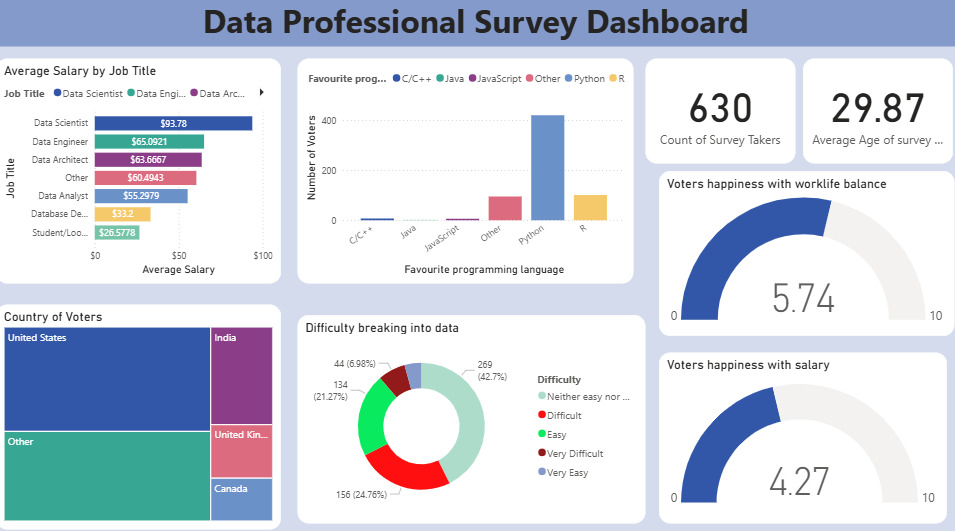

What the dashboard file says about the page in this screenshot:
{"tool":"powerbi","page":{"name":"Page 1","canvas":[1280,720],"ordinal":0},"visuals":[{"type":"textbox","box":[0,0,1279.4,69.9],"z":0},{"type":"card","fields":{"Values":["CountNonNull(Data Professional Survey.Unique ID)"]},"box":[866,86,200,140],"z":1000},{"type":"card","fields":{"Values":["Avg(Data Professional Survey.Q10 - Current Age)"]},"box":[1076,86,200,140],"z":2000},{"type":"barChart","title":"Average Salary by Job Title","fields":{"Category":["Data Professional Survey.Q1 - Which Title Best Fits your Current Role?.1"],"Y":["Avg(Data Professional Survey.Average Salary )"],"Series":["Data Professional Survey.Q1 - Which Title Best Fits your Current Role?.1"]},"box":[0,86,380,300],"z":3000},{"type":"columnChart","fields":{"Category":["Data Professional Survey.Q5 - Favorite Programming Language.1"],"Y":["CountNonNull(Data Professional Survey.Unique ID)"],"Series":["Data Professional Survey.Q5 - Favorite Programming Language.1"]},"box":[402,86,448,300],"z":4000},{"type":"treemap","title":"Country of Voters","fields":{"Group":["Data Professional Survey.Q11 - Which Country do you live in?.1"],"Values":["CountNonNull(Data Professional Survey.Q11 - Which Country do you live in?.1)"]},"box":[0,414,380,300],"z":5000},{"type":"gauge","title":"Voters happiness with worklife balance","fields":{"Y":["Avg(Data Professional Survey.Q6 - How Happy are you in your Current Position with the following? (Work/Life Balance))"],"MinValue":["Min(Data Professional Survey.Q6 - How Happy are you in your Current Position with the following? (Work/Life Balance))1"],"MaxValue":["Max(Data Professional Survey.Q6 - How Happy are you in your Current Position with the following? (Work/Life Balance))2"]},"box":[884,236,394,220],"z":6000},{"type":"gauge","title":"Voters happiness with salary","fields":{"Y":["Avg(Data Professional Survey.Q6 - How Happy are you in your Current Position with the following? (Salary))"],"MinValue":["Min(Data Professional Survey.Q6 - How Happy are you in your Current Position with the following? (Salary))"],"MaxValue":["Max(Data Professional Survey.Q6 - How Happy are you in your Current Position with the following? (Salary))"]},"box":[884,478,384,228],"z":7000},{"type":"donutChart","title":"Difficulty breaking into data ","fields":{"Category":["Data Professional Survey.Q7 - How difficult was it for you to break into Data?"],"Y":["CountNonNull(Data Professional Survey.Q7 - How difficult was it for you to break into Data?)"]},"box":[402,428,464,278],"z":8000}]}

Visuals, with their boxes in screenshot pixels (x1, y1, x2, y2), scaled from the page's 1280x720 canvas onto the 955x531 screenshot:
textbox: box=[0, 0, 954, 52]
card - CountNonNull(Data Professional Survey.Unique ID): box=[646, 63, 795, 167]
card - Avg(Data Professional Survey.Q10 - Current Age): box=[803, 63, 952, 167]
"Average Salary by Job Title" barChart: box=[0, 63, 284, 285]
columnChart - Data Professional Survey.Q5 - Favorite Programming Language.1 x CountNonNull(Data Professional Survey.Unique ID): box=[300, 63, 634, 285]
"Country of Voters" treemap: box=[0, 305, 284, 527]
"Voters happiness with worklife balance" gauge: box=[660, 174, 954, 336]
"Voters happiness with salary" gauge: box=[660, 353, 946, 521]
"Difficulty breaking into data " donutChart: box=[300, 316, 646, 521]
